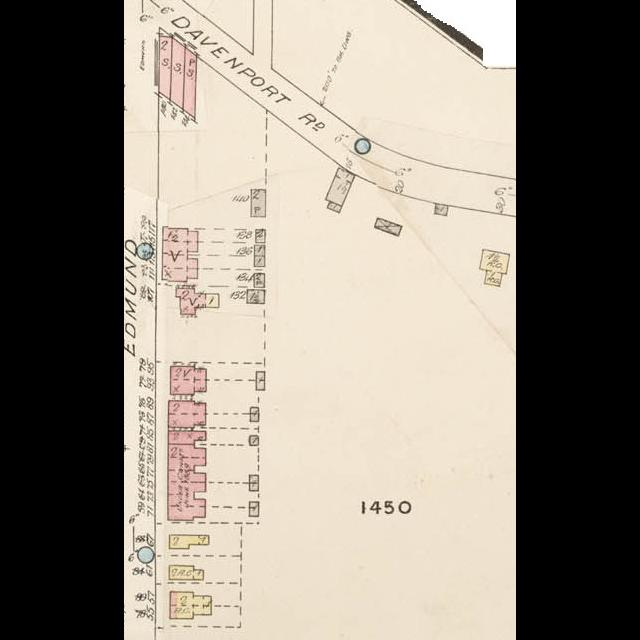building-footprints: (168, 444, 206, 520), (162, 226, 198, 281), (326, 167, 355, 206), (176, 288, 219, 314), (480, 249, 510, 286), (170, 591, 211, 618), (170, 36, 185, 109), (170, 366, 206, 394), (169, 401, 206, 428), (184, 47, 197, 118), (159, 36, 172, 100), (168, 430, 206, 444), (169, 535, 209, 548), (374, 218, 401, 236), (169, 566, 204, 579), (251, 189, 266, 216), (247, 289, 265, 303), (327, 201, 342, 213), (256, 372, 265, 390), (254, 273, 265, 287), (435, 204, 448, 215), (249, 502, 259, 515), (254, 245, 265, 256), (256, 229, 265, 242), (250, 407, 258, 421), (254, 256, 264, 266), (250, 435, 258, 445), (250, 475, 259, 483), (249, 483, 259, 490)
